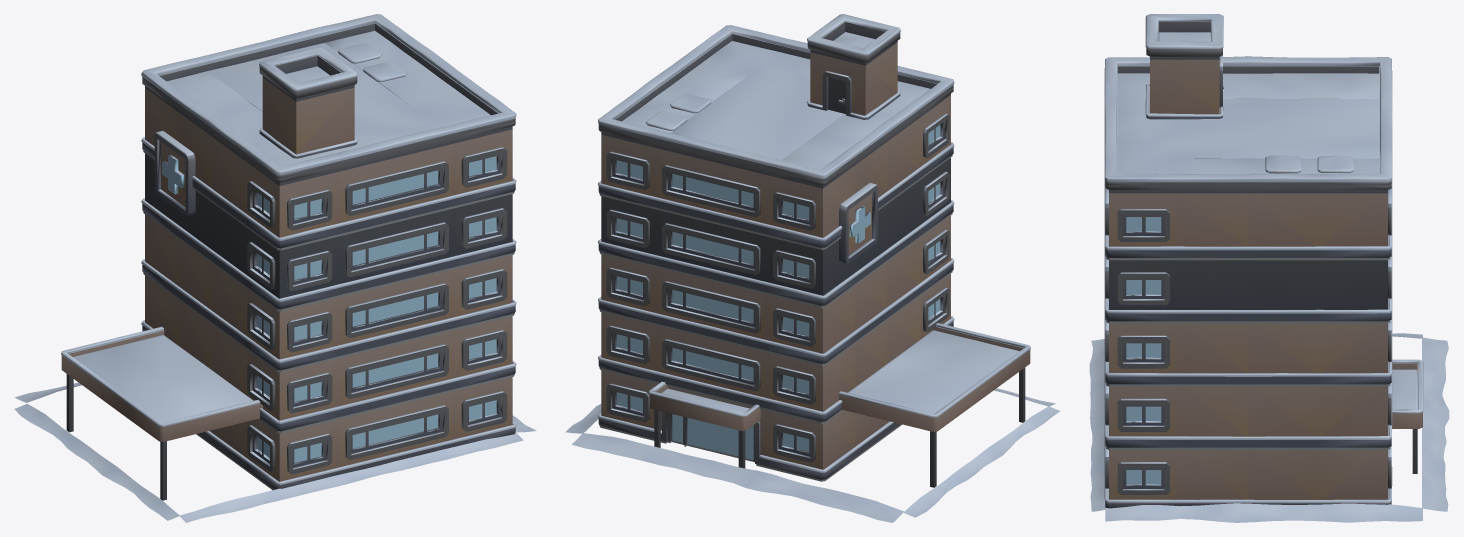
Rendered from bldg_n.glb.
3 views of the same model, side by side, from view 1: azimuth 30°, elevation 25°; view 2: azimuth 150°, elevation 25°; view 3: azimuth 270°, elevation 25° (orthographic). The views are drawn at different scales.
Visible parts, largest first — view 1: Base, Roof; view 2: Base, Roof; view 3: Base, Roof.
Boxes of the visible parts, left/top/right/bottom form: Base: left=14, top=27, right=536, bottom=522; Roof: left=141, top=14, right=516, bottom=178; Base: left=565, top=37, right=1060, bottom=522; Roof: left=598, top=14, right=954, bottom=181; Base: left=1089, top=69, right=1449, bottom=522; Roof: left=1104, top=14, right=1392, bottom=185.
Size of what is drawn, in the model's own units: 24.43 by 23.89 by 19.6.
